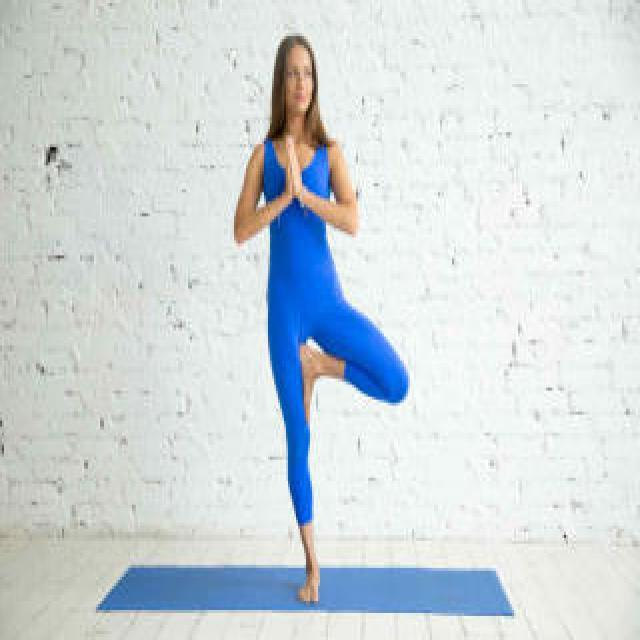yoga-pose tree: (233, 35, 412, 607)
